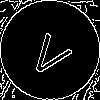V: (25, 25, 79, 81)
